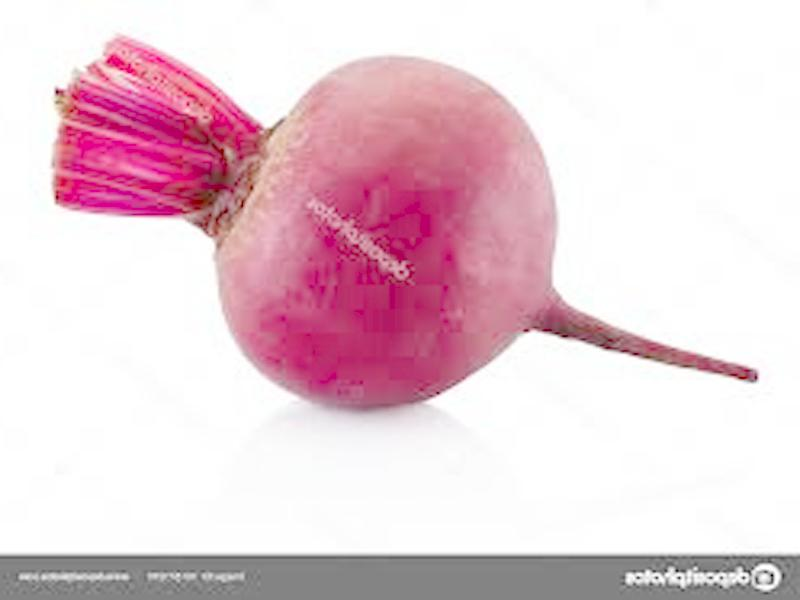Beet: (50, 39, 757, 410)
